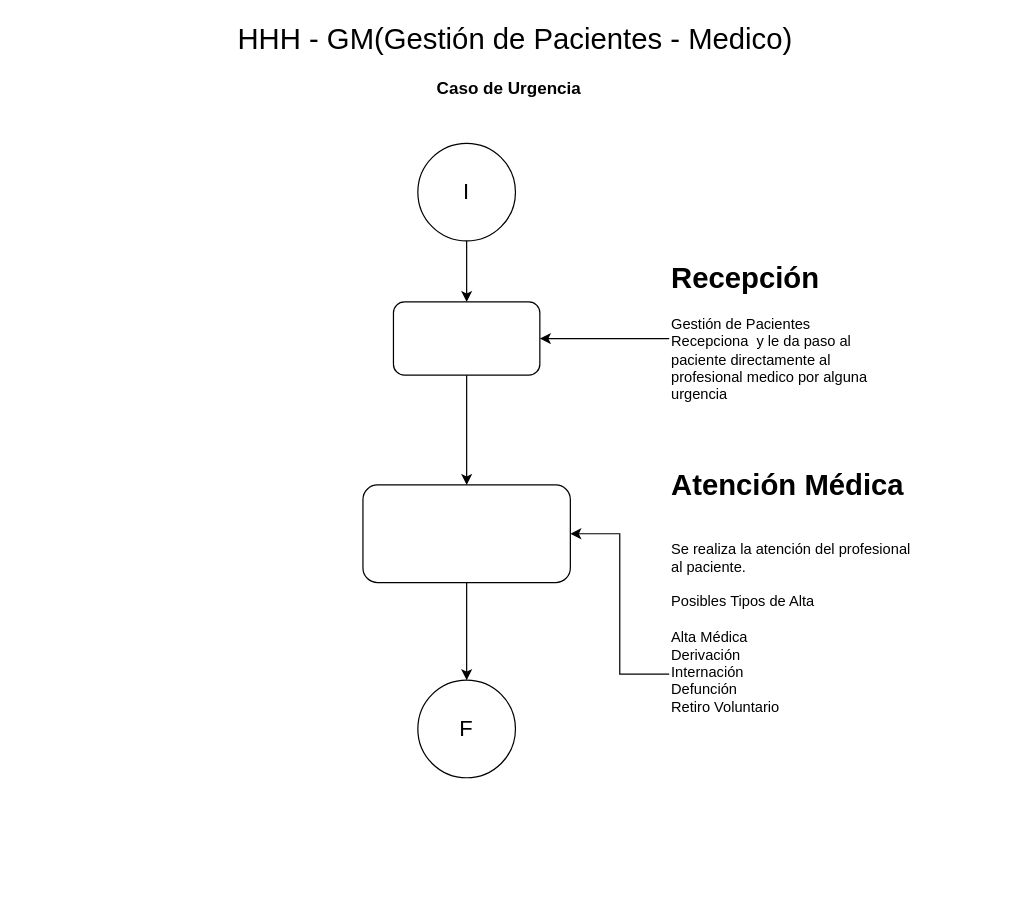
Image size: 1030x911. Some labels were removed from this diagram. Each missing label, with the centre of its shape:
REALIZAR ATENCION MEDICA: [466,533]
RECEPCIONAR PACIENTE: [466,338]
